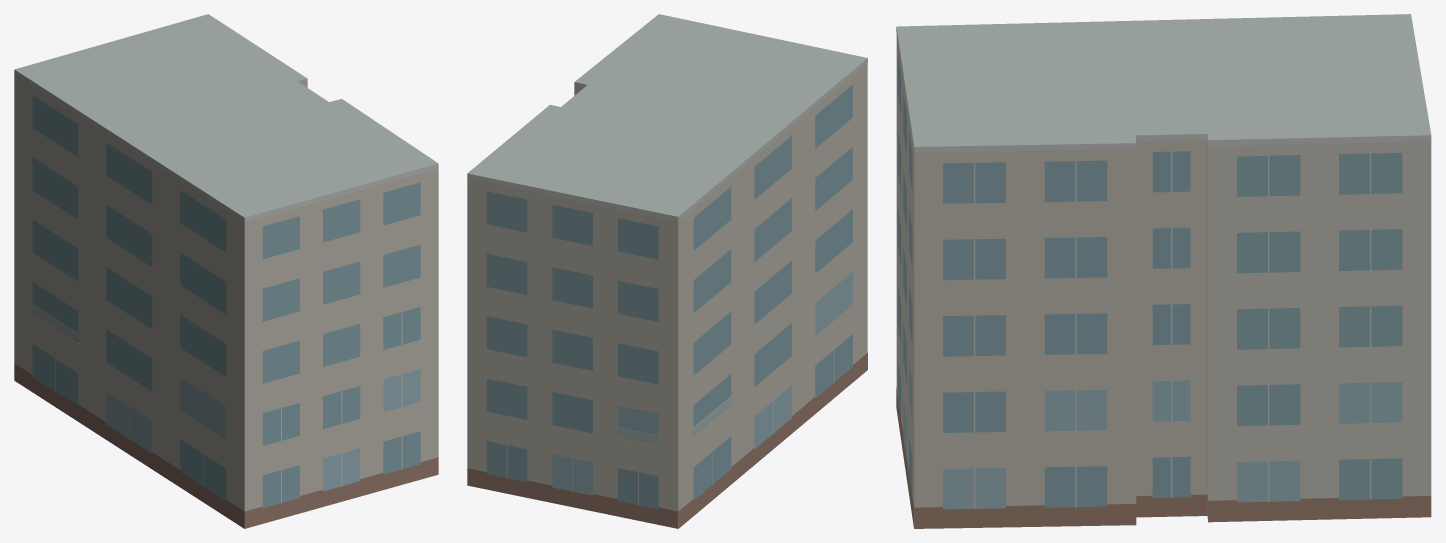
File: survey-upis-32698603.glb
3 renders of one model, left to right at view 1: azimuth 30°, elevation 25°; view 2: azimuth 150°, elevation 25°; view 3: azimuth 270°, elevation 25°, orthographic. The views are drawn at different scales.
Parts seen in each view (by area): view 1: survey-upis-32698603.tmp; view 2: survey-upis-32698603.tmp; view 3: survey-upis-32698603.tmp.
Part boxes in pixels (<box>): survey-upis-32698603.tmp: <box>14,14,438,528</box>; survey-upis-32698603.tmp: <box>467,14,867,528</box>; survey-upis-32698603.tmp: <box>896,14,1431,528</box>.
Bounding box in the file's own units: 11.47 × 15.35 × 19.49.
